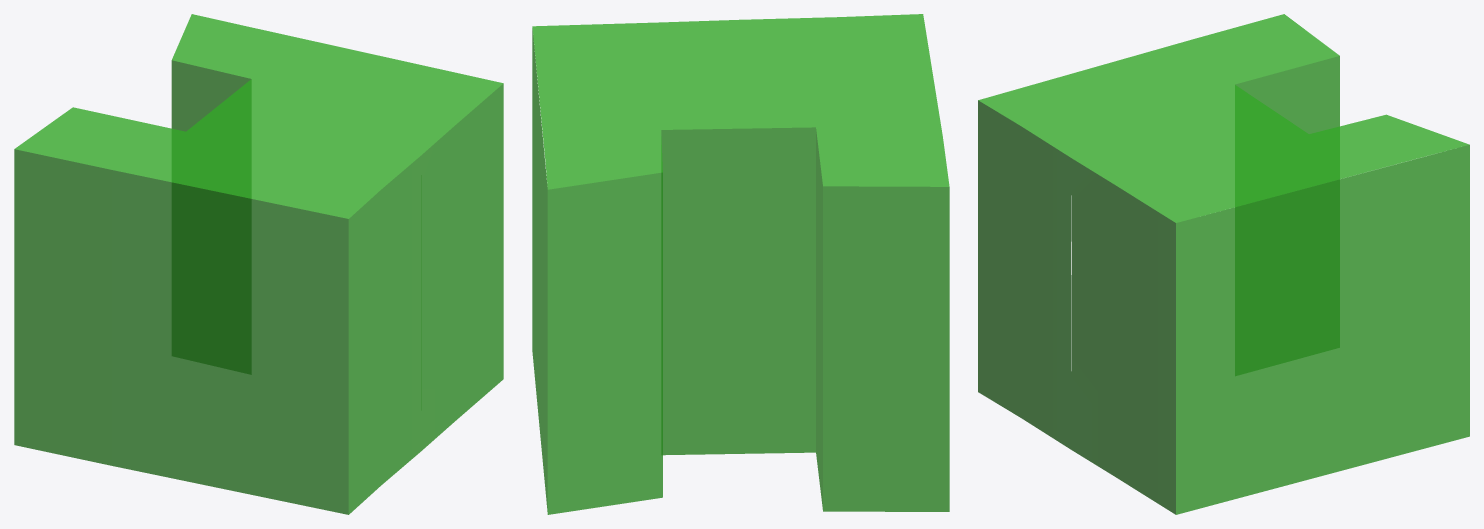
3 views of the same model, side by side, from view 1: azimuth 30°, elevation 25°; view 2: azimuth 150°, elevation 25°; view 3: azimuth 270°, elevation 25° (orthographic). The views are drawn at different scales.
Bounding box in the file's own units: 32.27 × 21 × 32.07.
